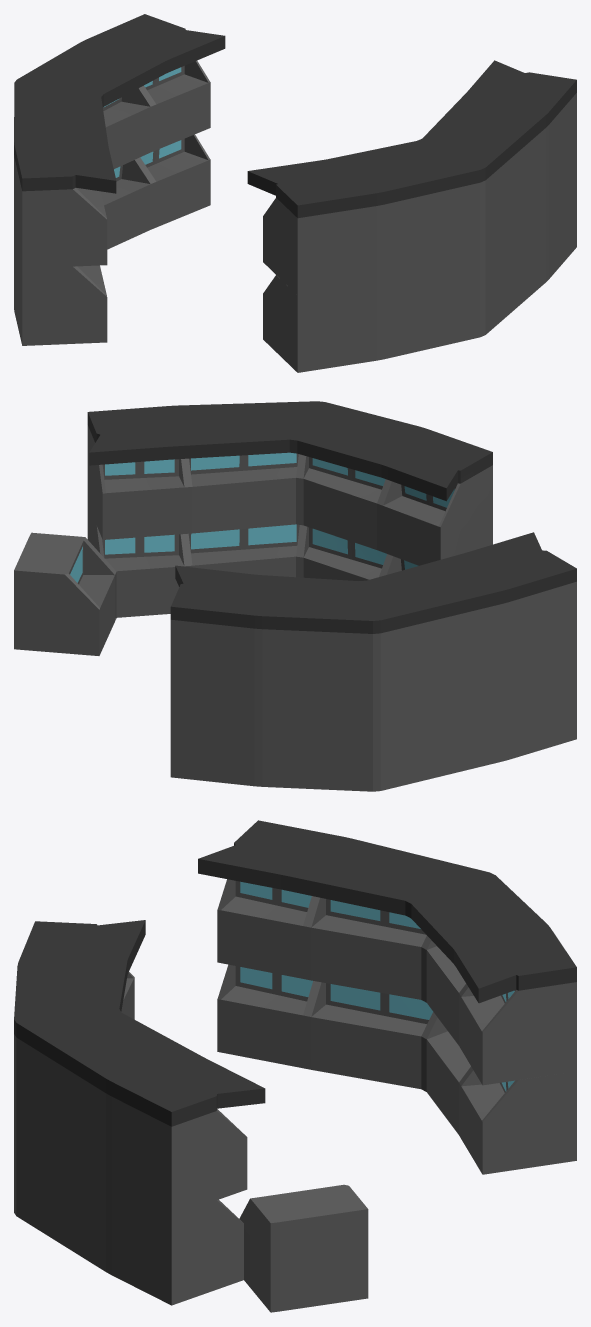
File: kost2an.fbx
3 views of the same model, one above another, from view 1: azimuth 30°, elevation 25°; view 2: azimuth 150°, elevation 25°; view 3: azimuth 270°, elevation 25° (orthographic). The views are drawn at different scales.
Parts seen in each view (by area): view 1: Cube.101, Cube.095; view 2: Cube.095, Cube.101, Cube.099; view 3: Cube.095, Cube.101, Cube.099.
Part boxes in pixels (x1,y1,x2,y2): Cube.101: [247, 60, 576, 372]; Cube.095: [14, 14, 225, 345]; Cube.095: [170, 532, 576, 791]; Cube.101: [87, 401, 492, 617]; Cube.099: [14, 532, 116, 655]; Cube.095: [198, 820, 576, 1174]; Cube.101: [14, 920, 265, 1305]; Cube.099: [239, 1184, 368, 1312].
Bounding box in the file's own units: 7032 × 2124 × 5601.
